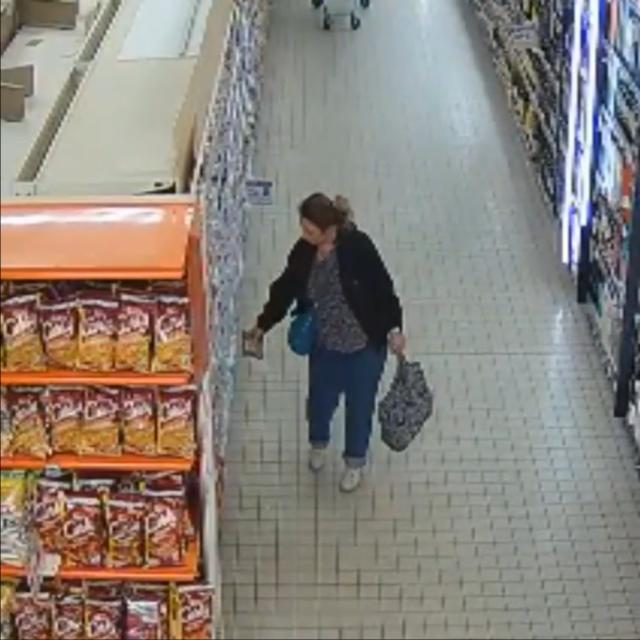article: (241, 332, 265, 361)
bags: (378, 357, 433, 452), (288, 309, 317, 356)
hands: (245, 325, 264, 349), (389, 331, 406, 355)
person: (248, 194, 405, 492)
